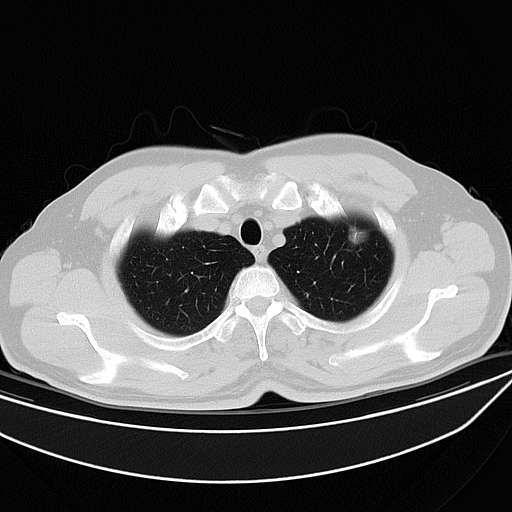nodule: (346, 224, 369, 244)
